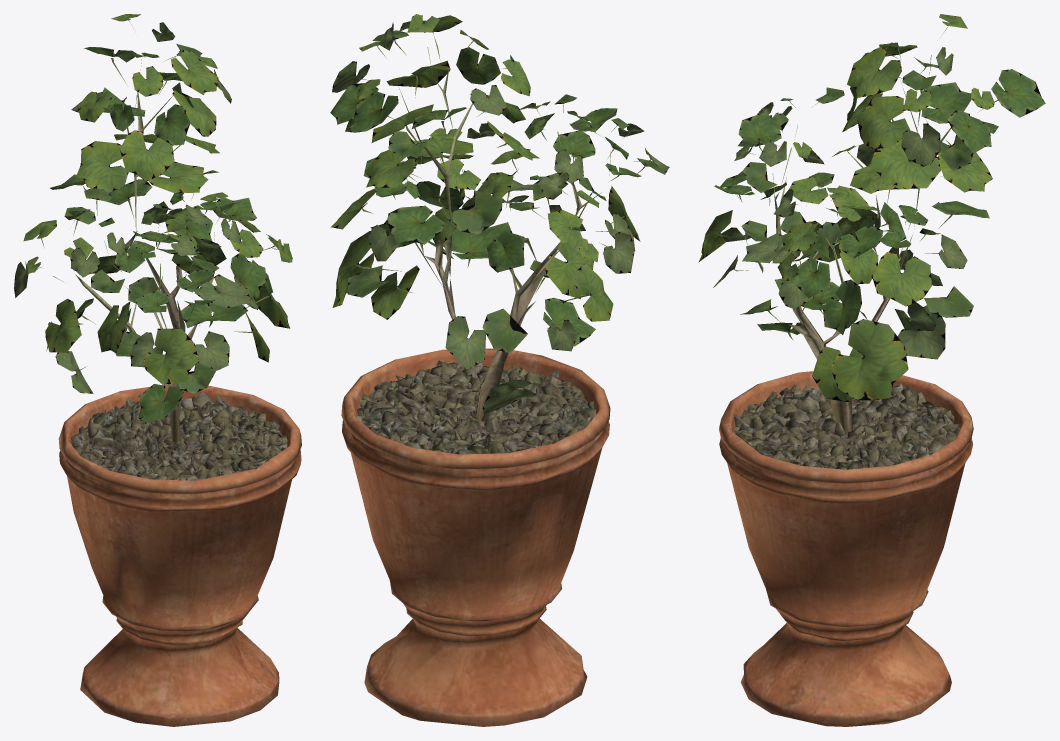
The model's file is potted_plant_01.glb.
The picture shows the model from 3 angles, left to right: view 1: azimuth 30°, elevation 25°; view 2: azimuth 150°, elevation 25°; view 3: azimuth 270°, elevation 25°; orthographic projection. The views are drawn at different scales.
Visible parts, largest first — view 1: potted_plant_01_pot, potted_plant_01_leaves, potted_plant_01_pebbles, potted_plant_01_stem; view 2: potted_plant_01_pot, potted_plant_01_leaves, potted_plant_01_pebbles, potted_plant_01_stem; view 3: potted_plant_01_pot, potted_plant_01_leaves, potted_plant_01_pebbles, potted_plant_01_stem.
Boxes of the visible parts, left/top/right/bottom form: potted_plant_01_pot: left=58, top=384, right=301, bottom=726; potted_plant_01_leaves: left=14, top=14, right=292, bottom=423; potted_plant_01_pebbles: left=71, top=392, right=287, bottom=480; potted_plant_01_stem: left=53, top=53, right=214, bottom=445; potted_plant_01_pot: left=341, top=348, right=610, bottom=726; potted_plant_01_leaves: left=330, top=14, right=669, bottom=414; potted_plant_01_pebbles: left=356, top=360, right=596, bottom=454; potted_plant_01_stem: left=398, top=47, right=611, bottom=420; potted_plant_01_pot: left=719, top=371, right=973, bottom=726; potted_plant_01_leaves: left=698, top=14, right=1045, bottom=401; potted_plant_01_pebbles: left=733, top=383, right=960, bottom=469; potted_plant_01_stem: left=758, top=55, right=963, bottom=434.
Bounding box in the file's own units: 0.5846 × 1.34 × 0.6336.
Materials: 2 (2 with a texture image).
